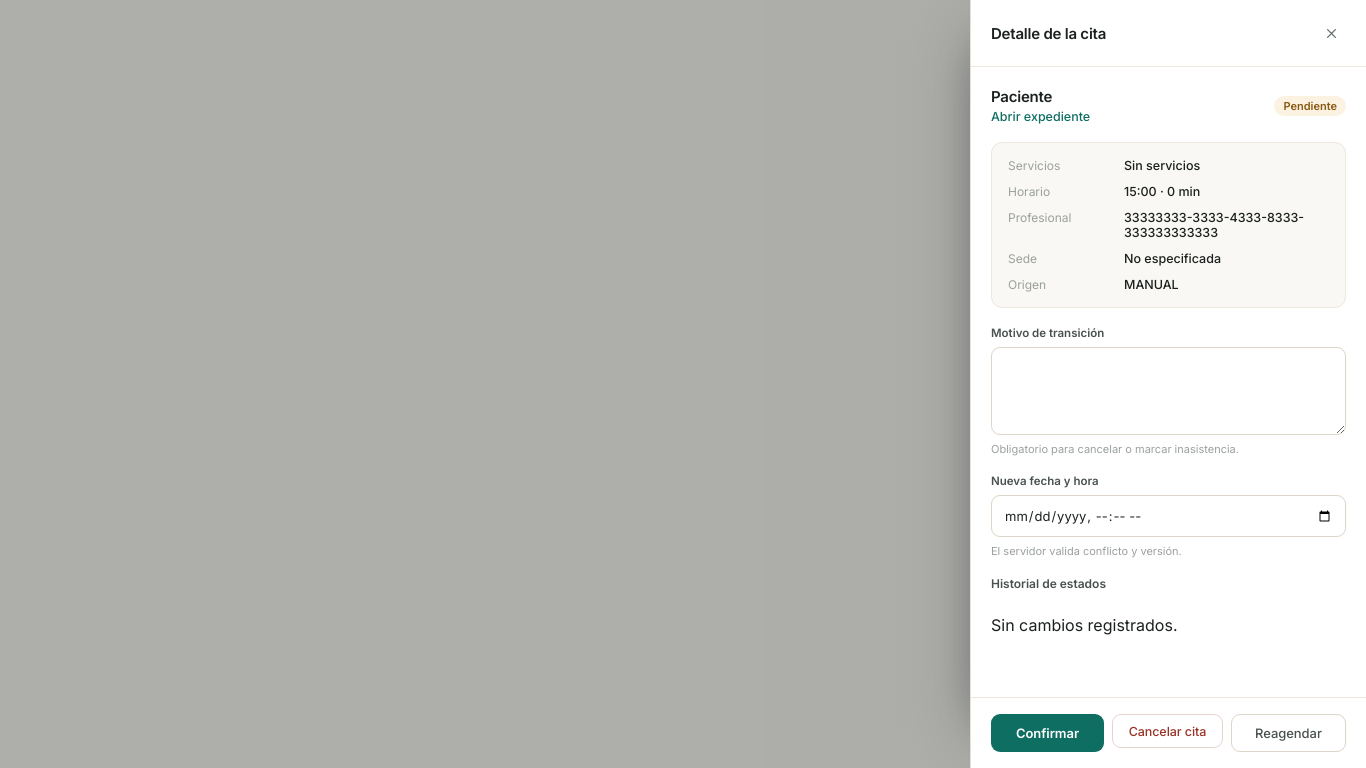
Test: <AppointmentDrawer /> › keeps the drawer open, retains the error, and reloads after a version conflict
The image size is (1366, 768).
Click the button "Confirmar": (1048, 733) [991,714,1104,752]
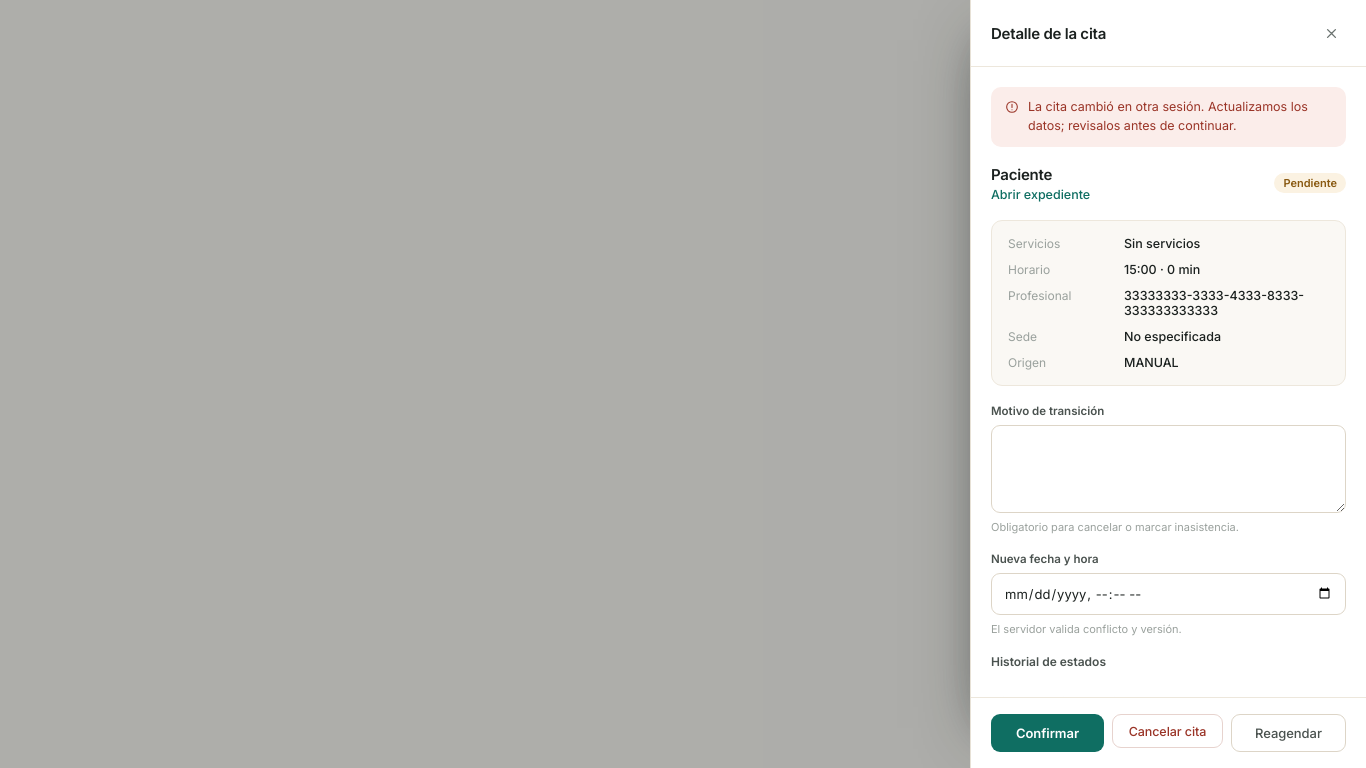
Check: the element "Detalle de la cita" is shown, box [970,0,1365,767]
Check: the text "La cita cambió en otra sesión" is shown, box [1028,99,1308,133]
